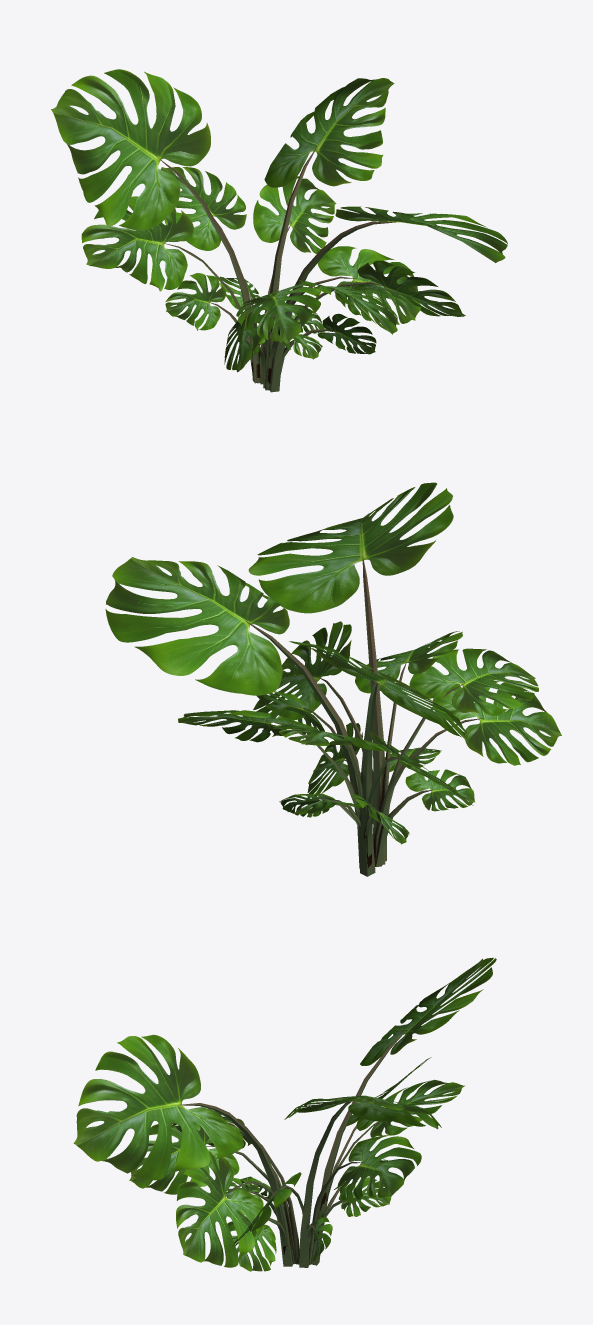
File: monstera_3.glb
3 views of the same model, one above another, from view 1: azimuth 30°, elevation 25°; view 2: azimuth 150°, elevation 25°; view 3: azimuth 270°, elevation 25° (orthographic). The views are drawn at different scales.
Visible parts, largest first — view 1: tree.002SM_MZRa_Monstera_B074_MI_MZRa_Monstera_B07a1_0, tree.002SM_MZRa_Monstera_B074_MI_MZRa_Monstera_B07b_0; view 2: tree.002SM_MZRa_Monstera_B074_MI_MZRa_Monstera_B07a1_0, tree.002SM_MZRa_Monstera_B074_MI_MZRa_Monstera_B07b_0; view 3: tree.002SM_MZRa_Monstera_B074_MI_MZRa_Monstera_B07a1_0, tree.002SM_MZRa_Monstera_B074_MI_MZRa_Monstera_B07b_0.
Boxes of the visible parts, <box> form: tree.002SM_MZRa_Monstera_B074_MI_MZRa_Monstera_B07a1_0: <box>51,69,507,372</box>; tree.002SM_MZRa_Monstera_B074_MI_MZRa_Monstera_B07b_0: <box>155,146,395,392</box>; tree.002SM_MZRa_Monstera_B074_MI_MZRa_Monstera_B07a1_0: <box>105,482,561,844</box>; tree.002SM_MZRa_Monstera_B074_MI_MZRa_Monstera_B07b_0: <box>244,555,484,876</box>; tree.002SM_MZRa_Monstera_B074_MI_MZRa_Monstera_B07a1_0: <box>73,957,496,1271</box>; tree.002SM_MZRa_Monstera_B074_MI_MZRa_Monstera_B07b_0: <box>175,1027,409,1267</box>.
Bounding box in the file's own units: 3.27 × 2.37 × 4.01.
2 materials, 2 textured.
